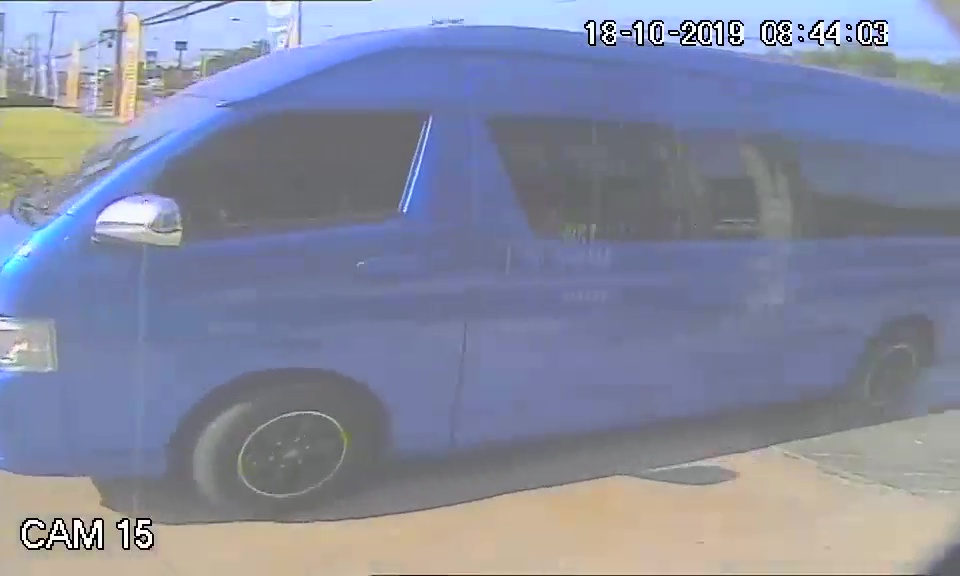van: (10, 22, 826, 511)
